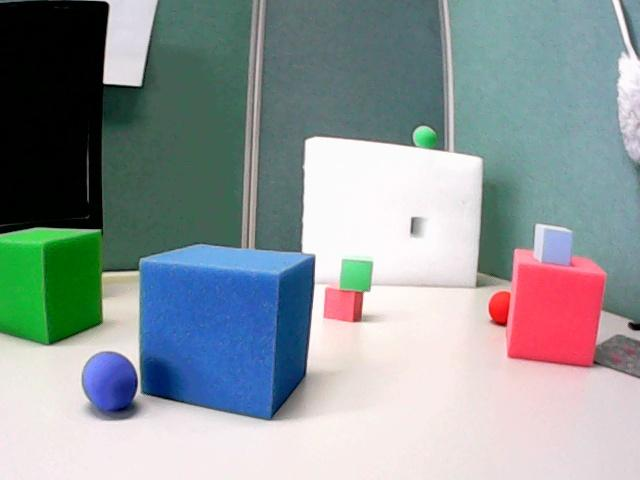blue_block: (140, 245, 314, 417), (534, 224, 572, 265)
red_block: (506, 249, 605, 365), (324, 284, 363, 321)
